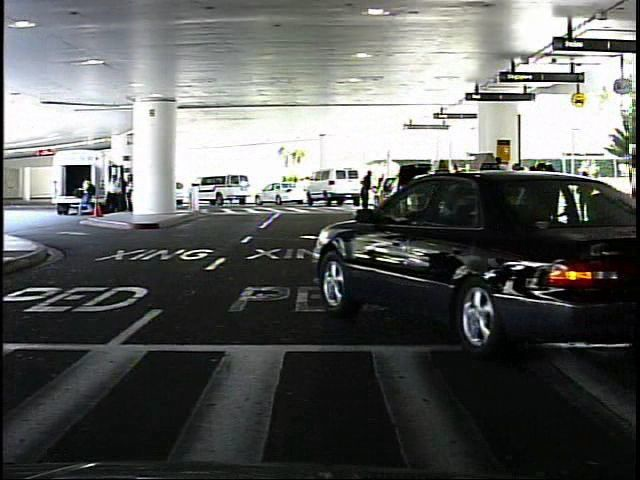person: (358, 165, 382, 220), (578, 165, 598, 222)
